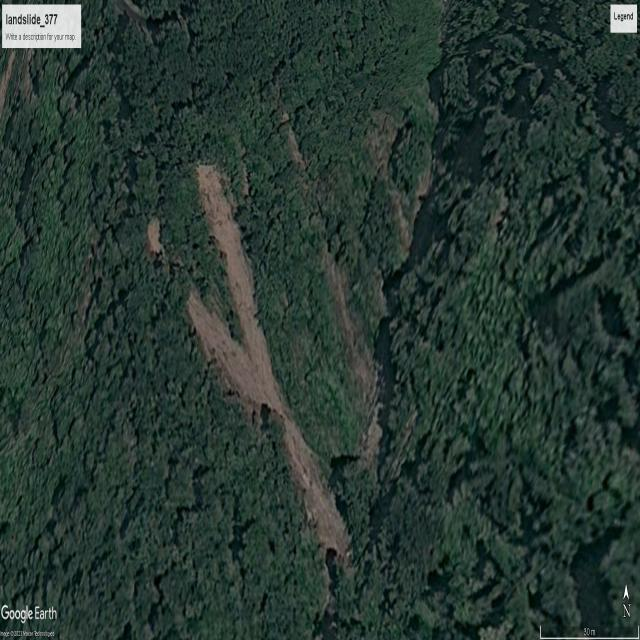Landslide: (180, 134, 346, 556), (316, 542, 319, 542)
